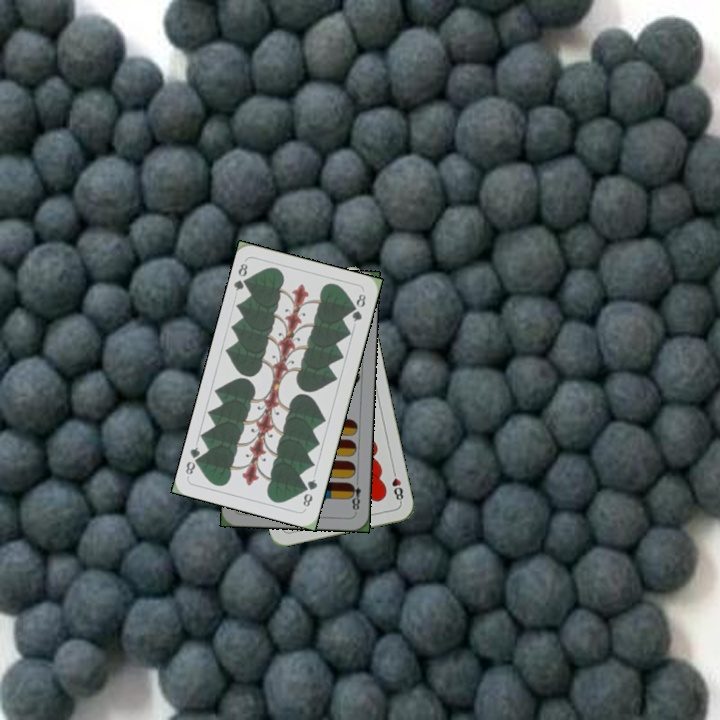E8: (346, 474, 363, 515)
G8: (230, 259, 253, 294), (299, 475, 320, 510)
H8: (388, 465, 406, 505)
